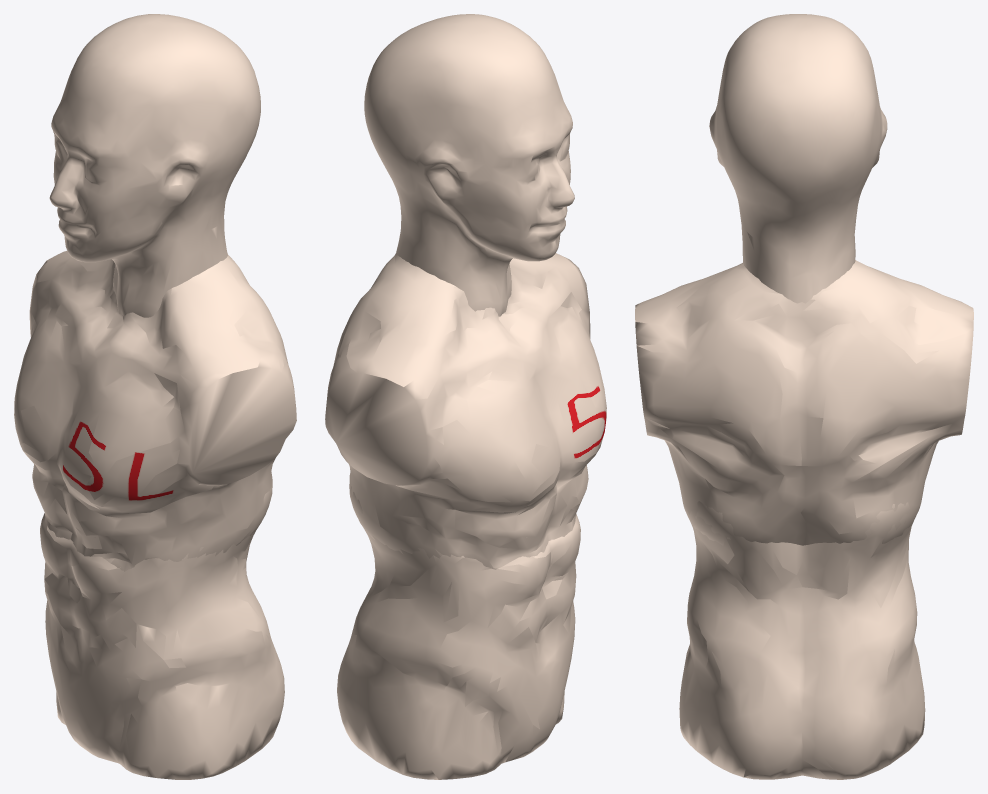
File: Humanmodel.fbx
3 renders of one model, left to right at view 1: azimuth 30°, elevation 25°; view 2: azimuth 150°, elevation 25°; view 3: azimuth 270°, elevation 25°, orthographic.
Parts seen in each view (by area): view 1: human figure; view 2: human figure; view 3: human figure.
Part boxes in pixels (x1=…): human figure: x1=14, y1=14, x2=296, y2=779; human figure: x1=325, y1=14, x2=606, y2=779; human figure: x1=635, y1=14, x2=973, y2=779.
Size of the model in its own units: 40.2 by 126 by 54.76.
